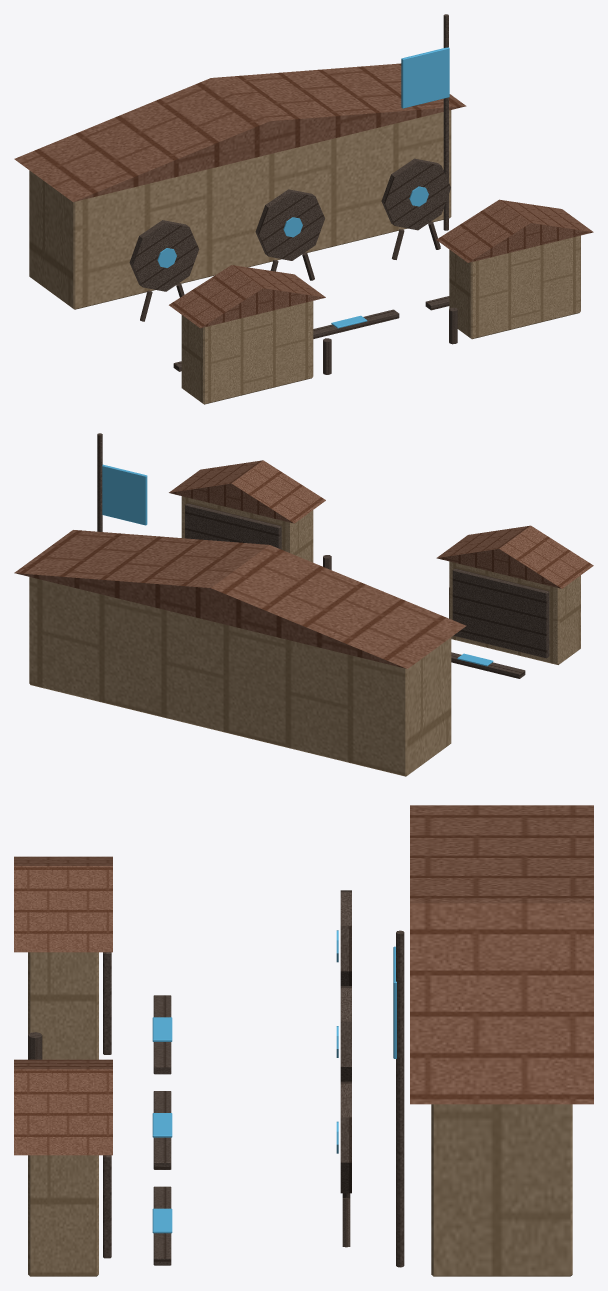
Rendered from edificio-b_000-e3-CJugAoX0.glb.
The picture shows the model from 3 angles, top to bottom: view 1: azimuth 30°, elevation 25°; view 2: azimuth 150°, elevation 25°; view 3: azimuth 270°, elevation 25°; orthographic projection. The views are drawn at different scales.
Parts seen in each view (by area): view 1: envolvente_arqueria, team_color; view 2: envolvente_arqueria, team_color; view 3: envolvente_arqueria, team_color.
Part boxes in pixels (box(x1,y1,x2,y2)): envolvente_arqueria: box(14, 14, 593, 404); team_color: box(157, 47, 449, 328); envolvente_arqueria: box(14, 433, 593, 776); team_color: box(102, 464, 493, 666); envolvente_arqueria: box(14, 805, 593, 1276); team_color: box(152, 930, 396, 1233).
Size of the model in its own units: 50 by 26.09 by 41.
Materials: 2 (1 with a texture image).
